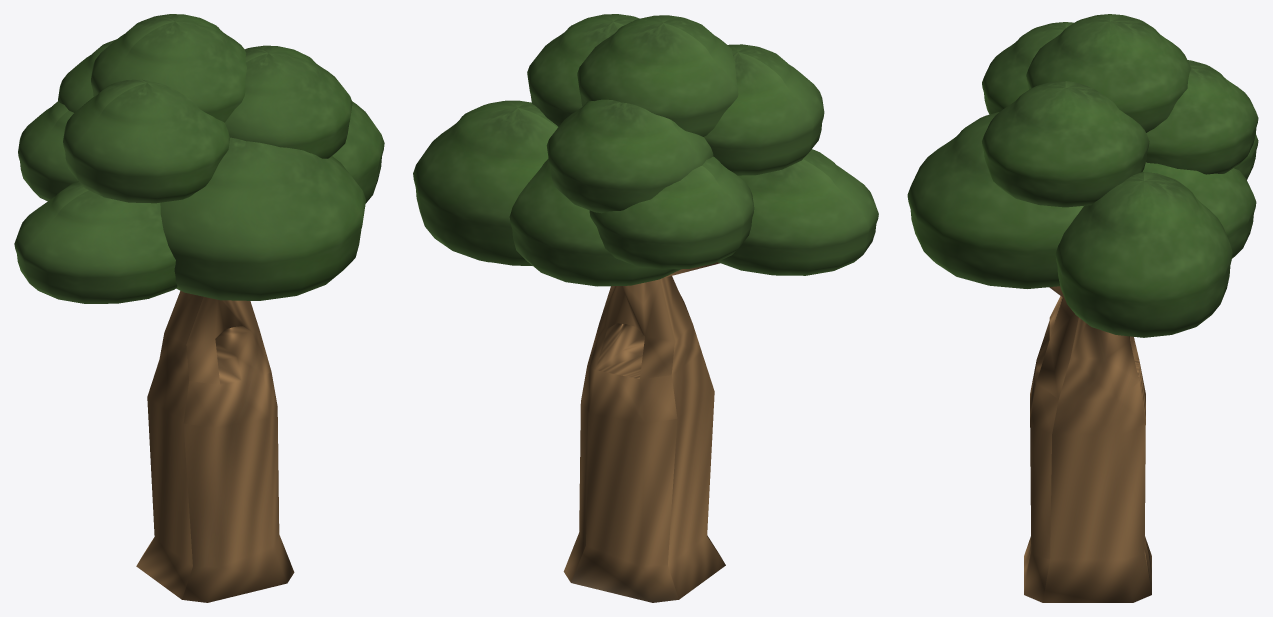
The model's file is Treewithhole.fbx.
3 views of the same model, side by side, from view 1: azimuth 30°, elevation 25°; view 2: azimuth 150°, elevation 25°; view 3: azimuth 270°, elevation 25° (orthographic). The views are drawn at different scales.
Parts seen in each view (by area): view 1: Cube, Sphere.005, Sphere.007, Sphere.003, Sphere.008, Sphere.002, Sphere.004, Sphere, Sphere.006; view 2: Cube, Sphere, Sphere.003, Sphere.008, Sphere.006, Sphere.004, Sphere.007, Sphere.001, Sphere.002; view 3: Cube, Sphere, Sphere.005, Sphere.002, Sphere.008, Sphere.006, Sphere.001, Sphere.007.
Part boxes in pixels (x1,y1,x2,y2): Cube: (136,290,294,602); Sphere.005: (160,137,365,300); Sphere.007: (63,79,229,203); Sphere.003: (14,181,177,303); Sphere.008: (91,14,246,122); Sphere.002: (225,45,352,158); Sphere.004: (18,101,77,201); Sphere: (332,101,384,203); Sphere.006: (58,39,116,112); Cube: (563,262,725,602); Sphere: (413,100,558,265); Sphere.003: (718,149,878,275); Sphere.008: (577,15,738,136); Sphere.006: (546,99,713,213); Sphere.004: (589,156,754,269); Sphere.007: (704,44,824,175); Sphere.001: (509,158,680,286); Sphere.002: (527,14,639,126); Cube: (1024,286,1151,602); Sphere: (1055,172,1232,337); Sphere.005: (907,112,1083,288); Sphere.002: (982,81,1149,207); Sphere.008: (1026,14,1191,132); Sphere.006: (1146,60,1258,174); Sphere.001: (1142,162,1256,258); Sphere.007: (982,22,1073,114).
Size of the model in its own units: 1273 by 1695 by 998.
